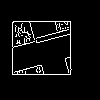I: (25, 25, 72, 50)
